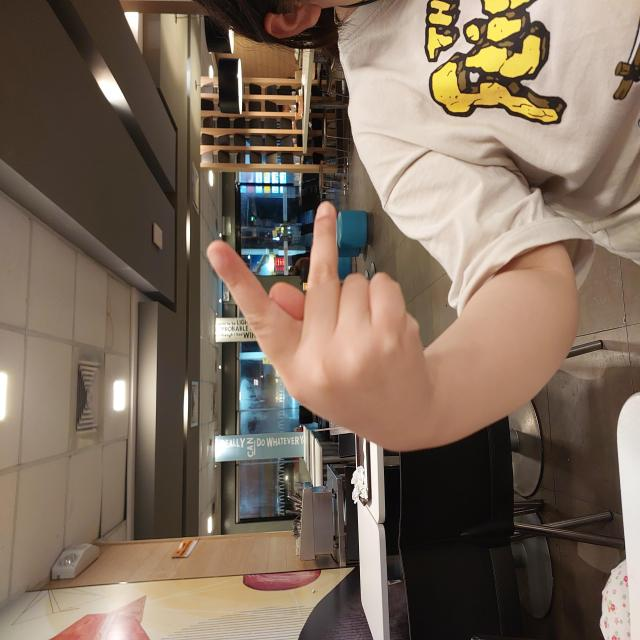K: (187, 205, 440, 434)
